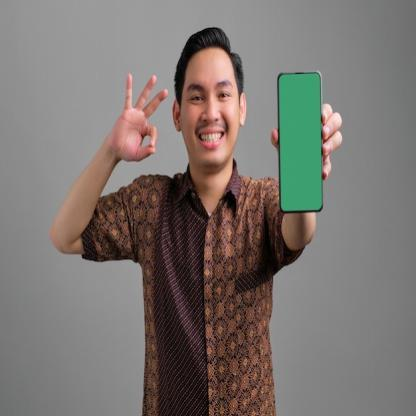ok: (113, 66, 171, 172)
